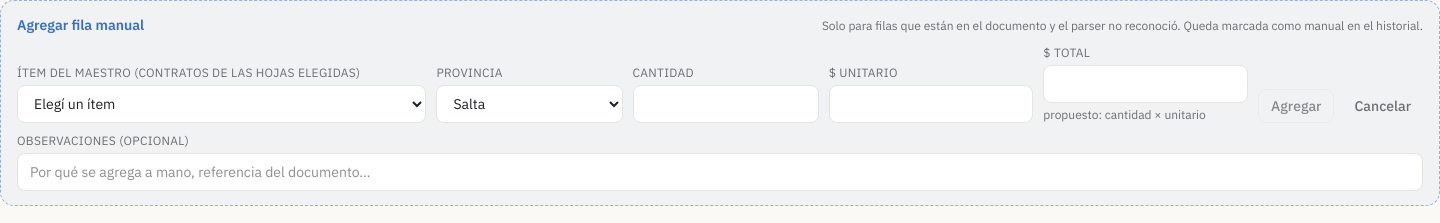
Test case: FilaManualForm › si el usuario borra el total del todo, vuelve a proponerse cantidad × unitario
Type "4" into the field labelled "Cantidad".
click(726, 104); type("4")  # box [632,85,819,123]
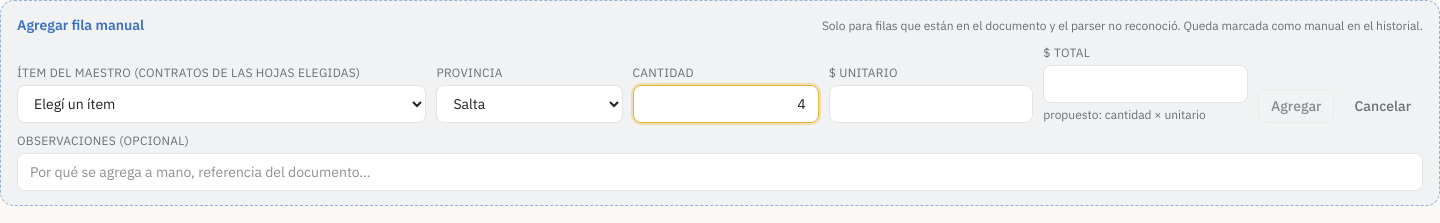
Type "100" into the field labelled "$ Unitario".
click(931, 104); type("100")  # box [829,85,1033,123]
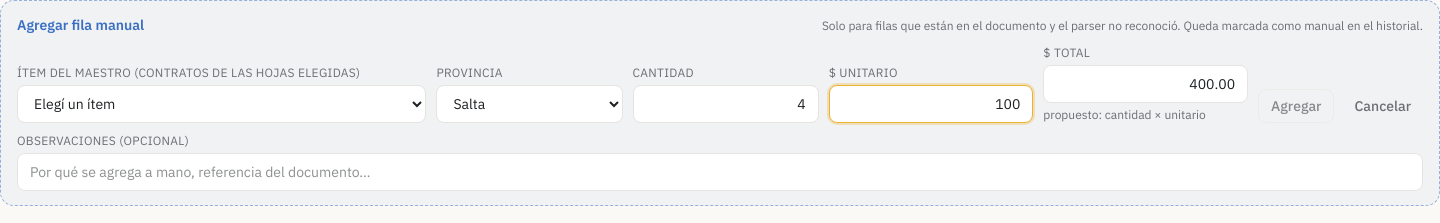
Expected: the field labelled "$ Total" holds "400.00"
Click the field labelled "$ Total".
click(1146, 84)  # box [1043,65,1248,103]
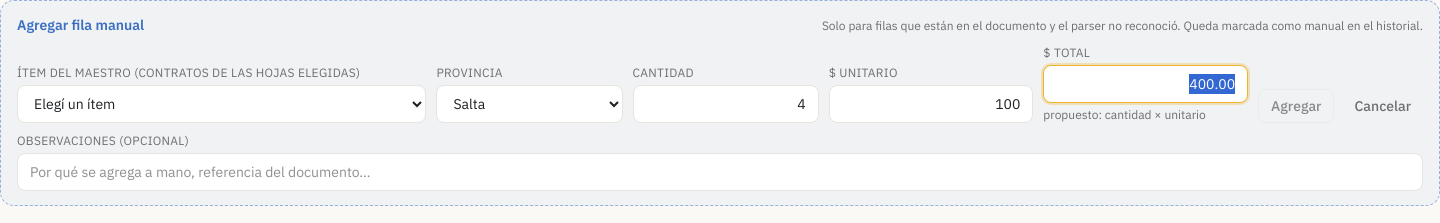
Type keys "395,50"
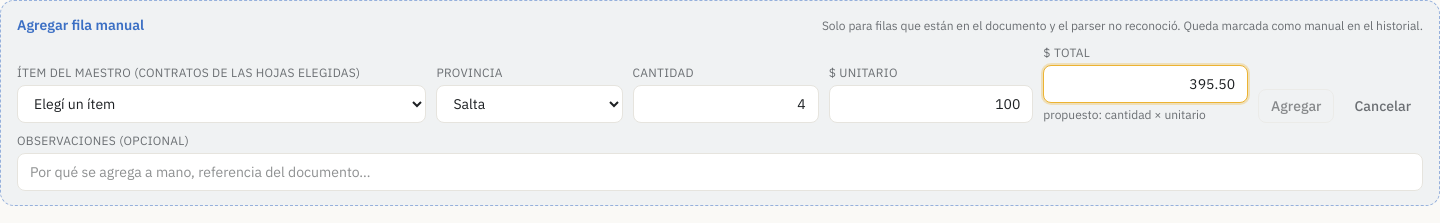
Expected: the field labelled "$ Total" holds "395.50"
Clear the field labelled "$ Total" at (1146, 84), box [1043,65,1248,103]
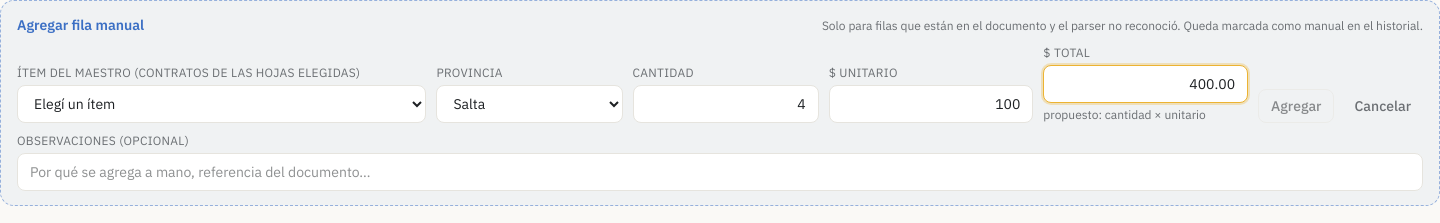
Expected: the field labelled "$ Total" holds "400.00", [1043,65,1248,103]
